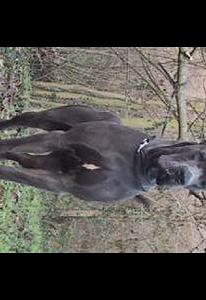dog: (0, 103, 206, 208)
